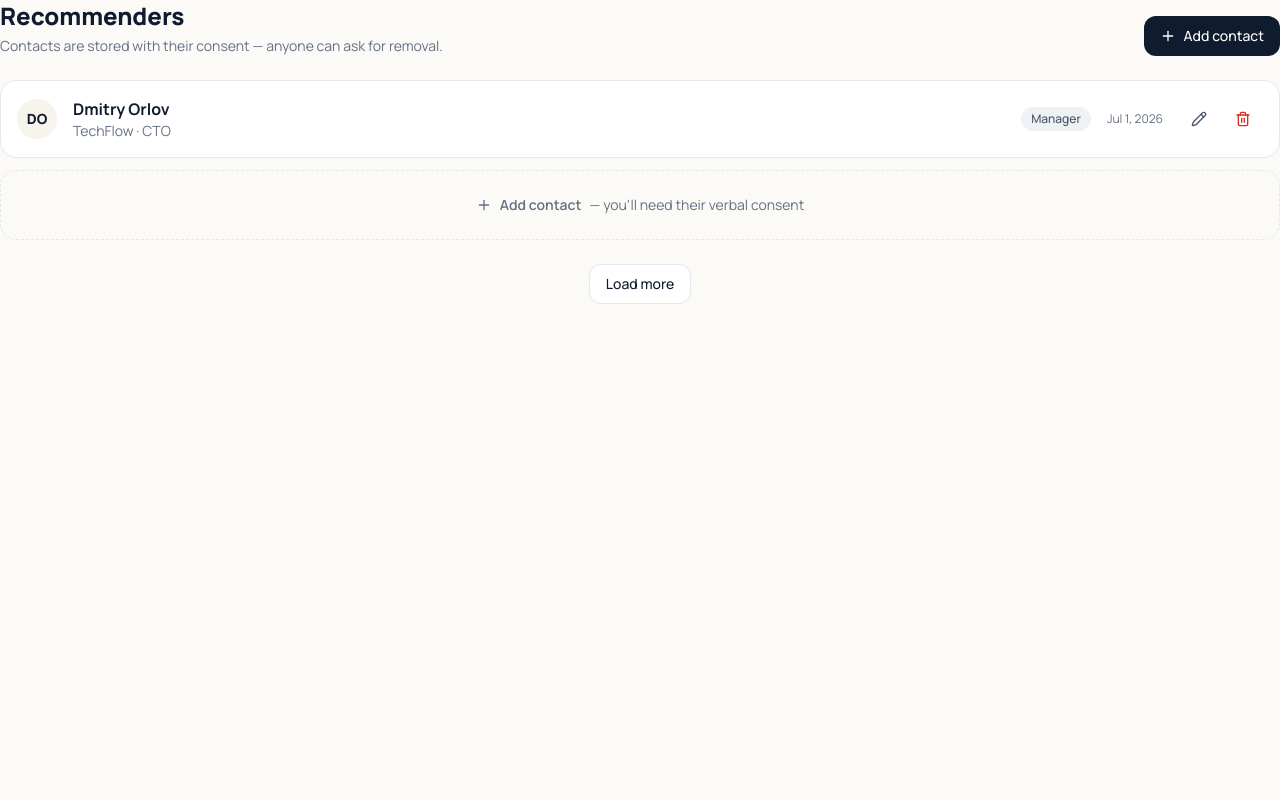
it: ContactsPage › requires a name before creating
expect the text "Dmitry Orlov" is shown: met, box 73,98 -> 170,120
Click the button "Add contact" at (1212, 36), box 1144,16 -> 1279,56
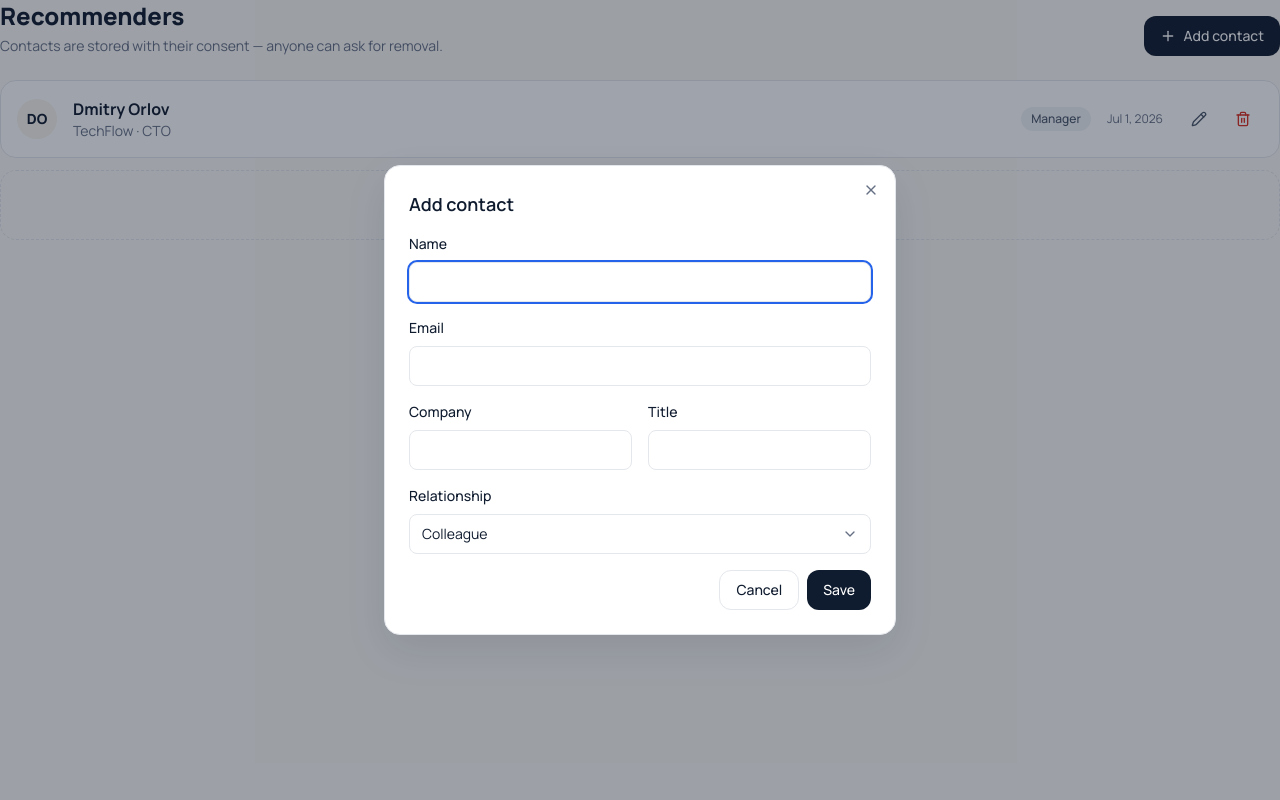
Type "e@nordwind.eu" into the field labelled "Email" at (640, 366), box 409,346 -> 871,386
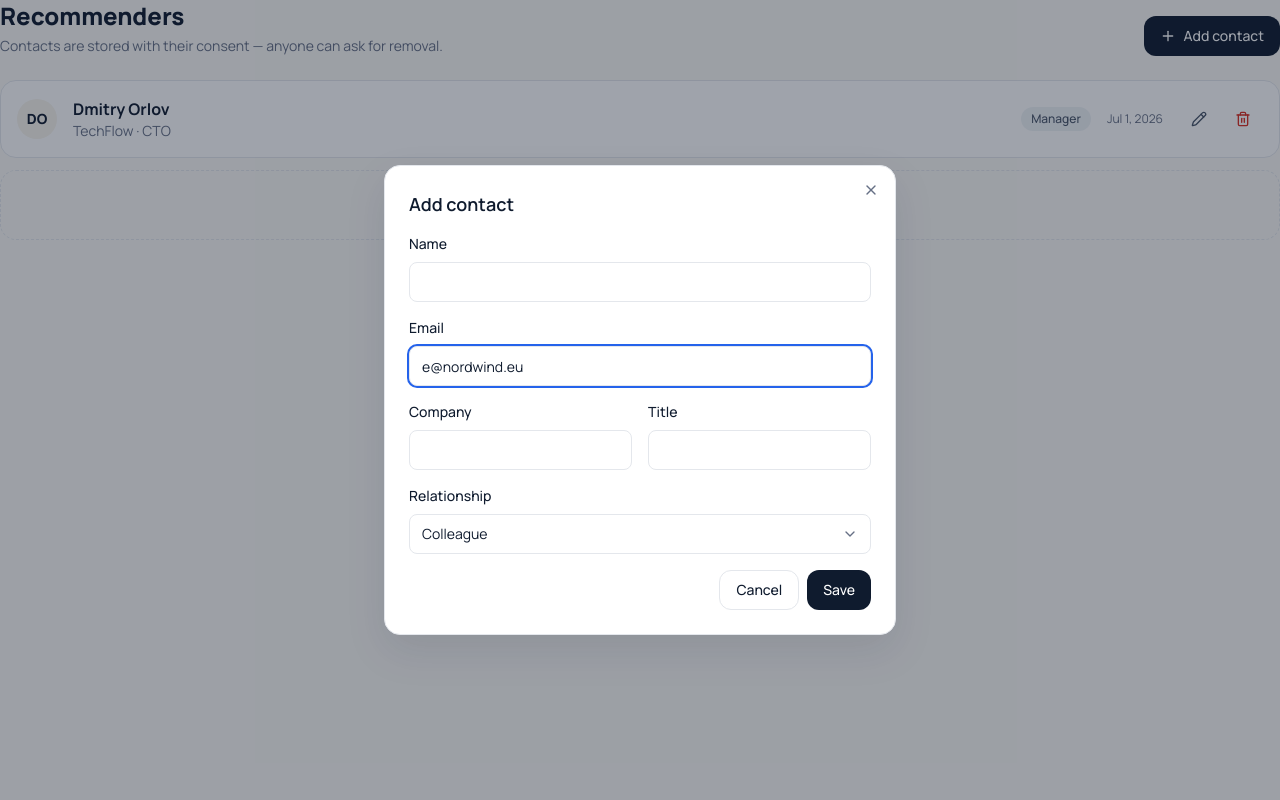
Click the button "Save" at (839, 590), box 807,570 -> 871,610
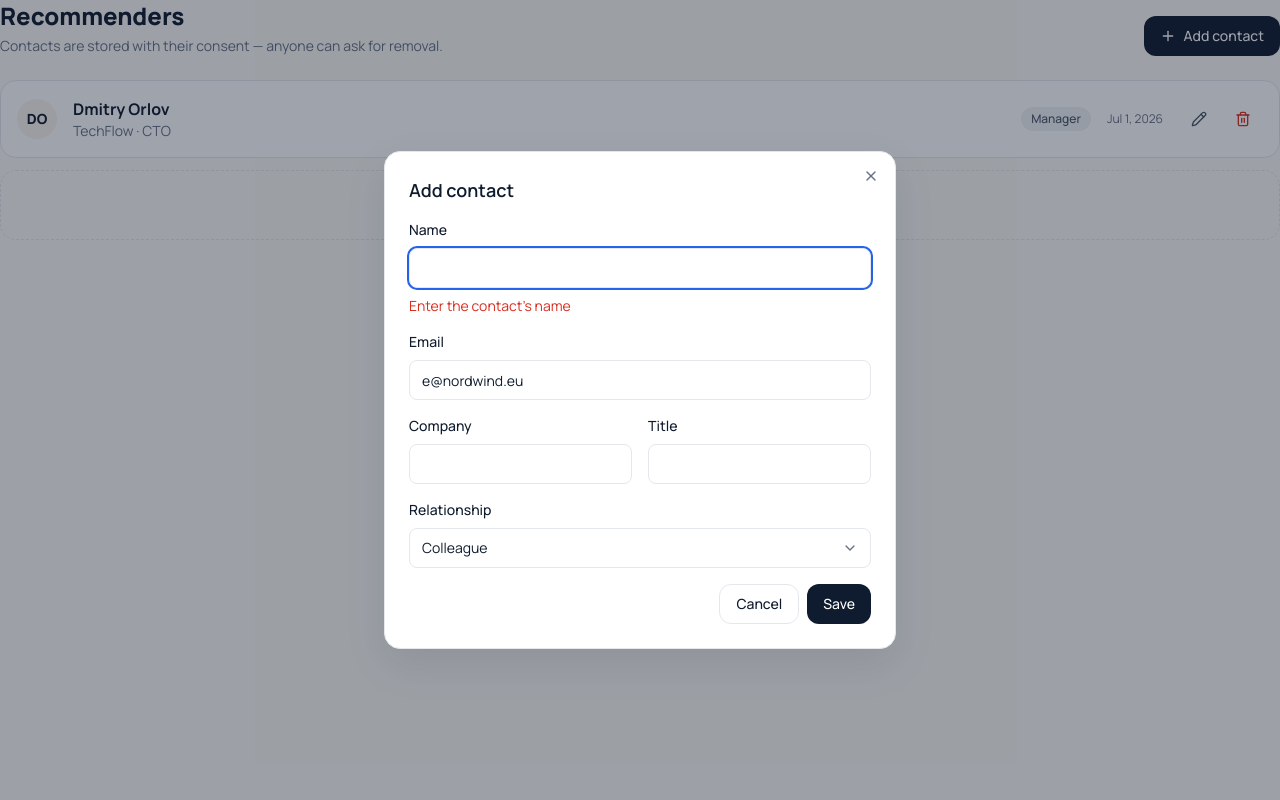
expect the text "Enter the contact's name" is shown: met, box 409,296 -> 571,315
